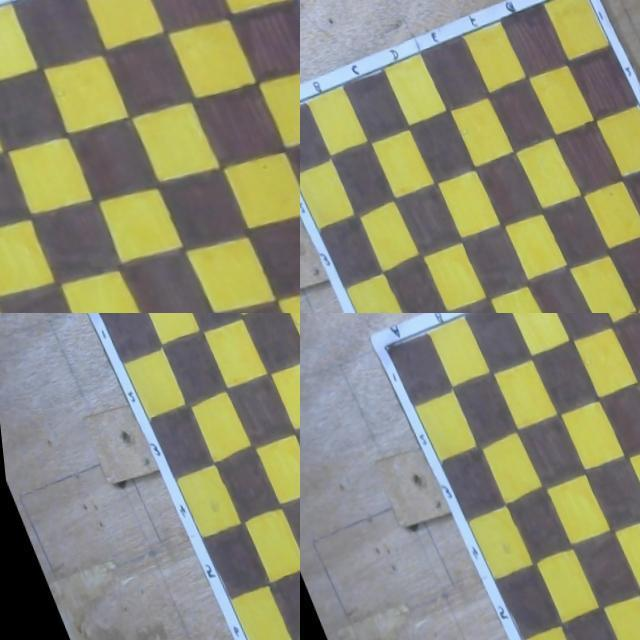chess-table-corners: (378, 342, 386, 350), (0, 68, 4, 81), (86, 313, 95, 317), (300, 110, 303, 120), (579, 0, 586, 4), (269, 0, 276, 2)
